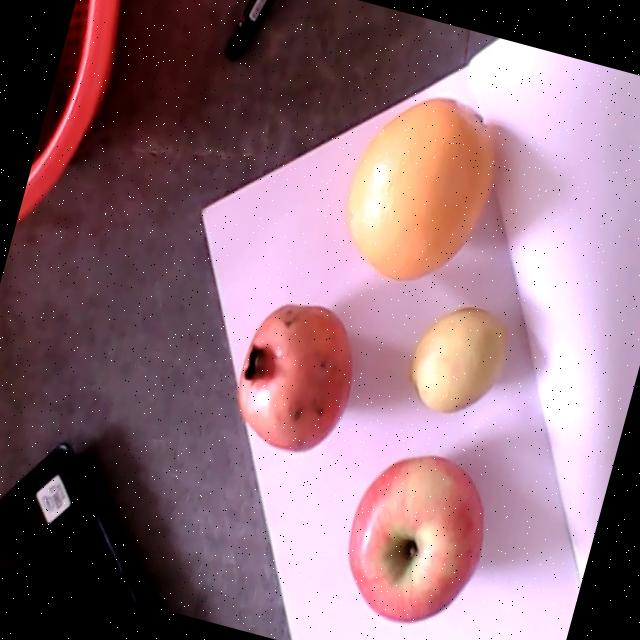apple: (348, 454, 484, 623)
lemon: (407, 305, 507, 413)
orange: (346, 97, 496, 282)
pomegranate: (235, 303, 352, 451)
